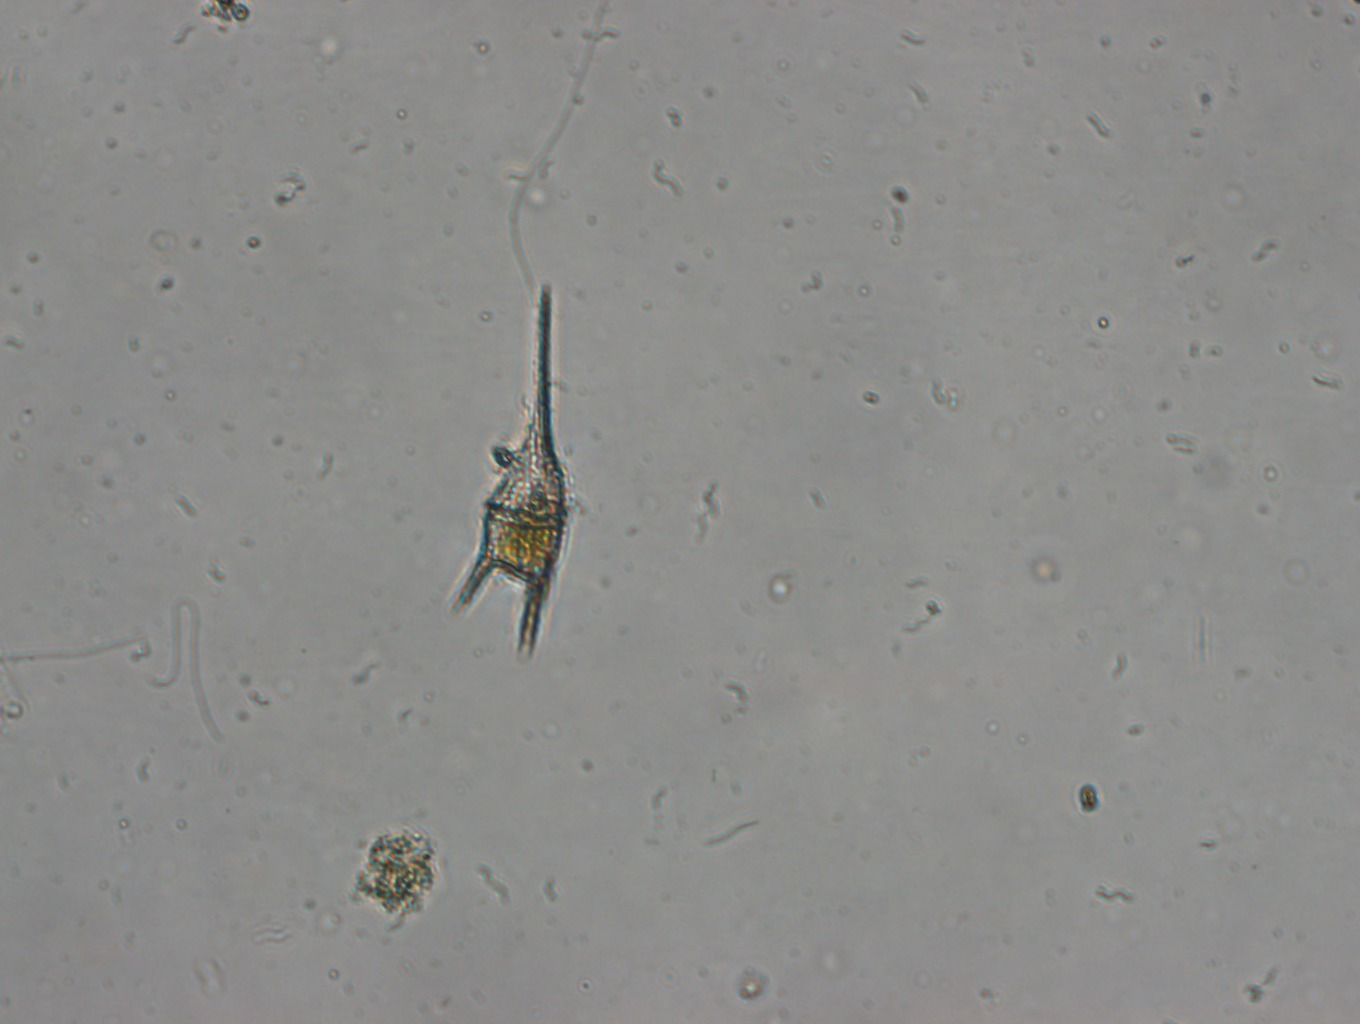ceratium furca: (442, 278, 575, 665)
